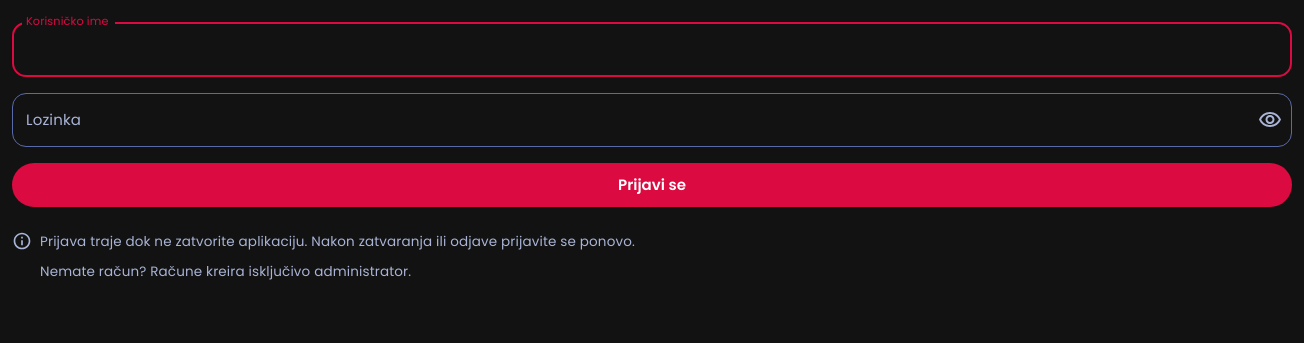
Test: LoginForm › validates locally before spending a round-trip
Click the button "Prijavi se" at (652, 185), box [12,163,1292,207]
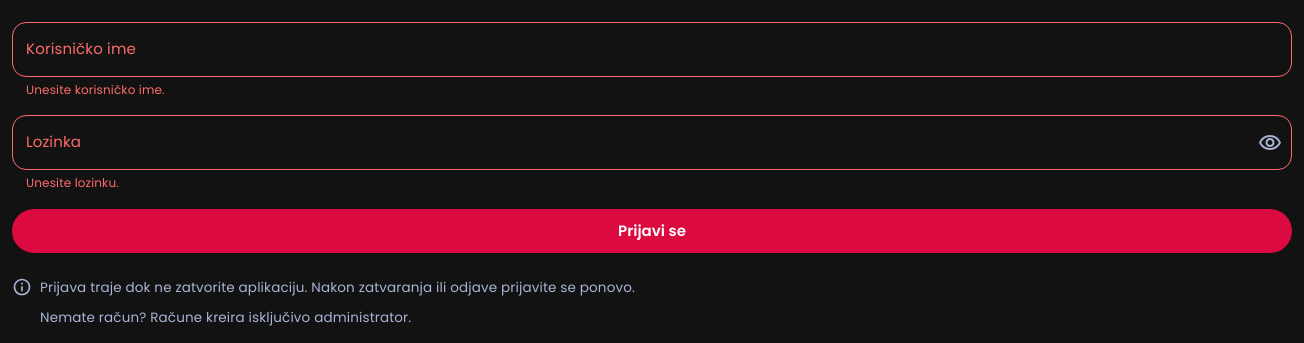
Result: the text "Unesite korisničko ime." is shown at [26,81,165,98]
Result: the text "Unesite lozinku." is shown at [26,174,119,191]
